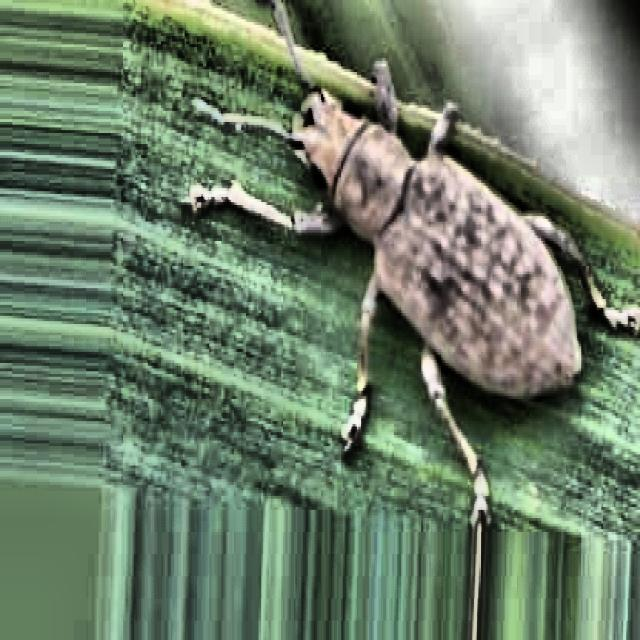Stink bug: (161, 0, 640, 557)
